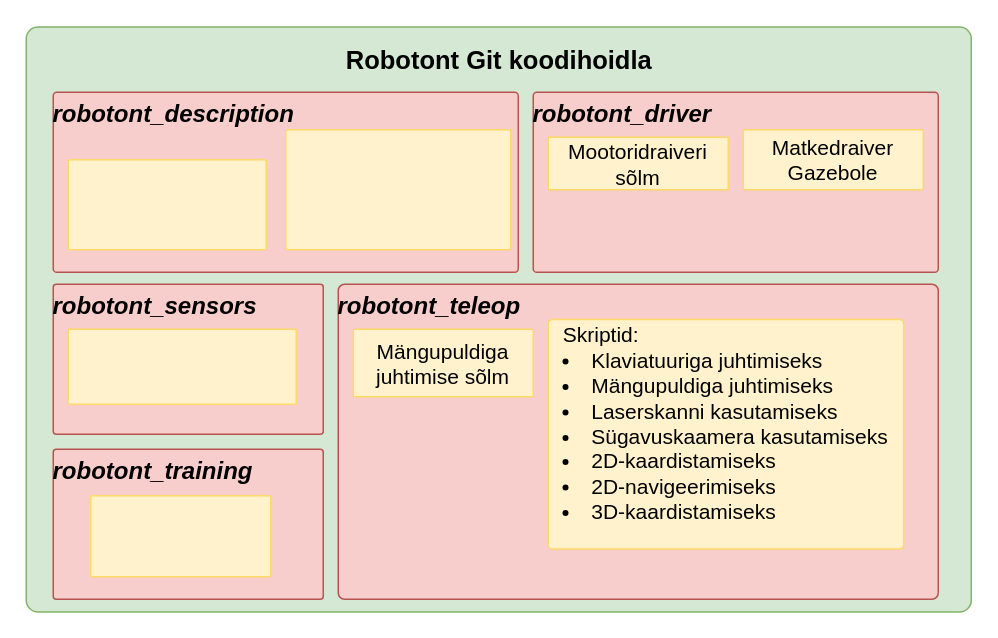
This 998x638 diagram has some shape labels left out. Each missing label, with the centre of its shape:
Eelseatud skriptid praktikumitöödele: the point at 180,535
Kinemaatiline kirjeldus (URDF, koosted): the point at 166,204
laserscan_to_distance sõlm: the point at 181,366
Rvizi and Gazebo seadistusfailid ning kiirkäivitusskriptid: the point at 397,189
